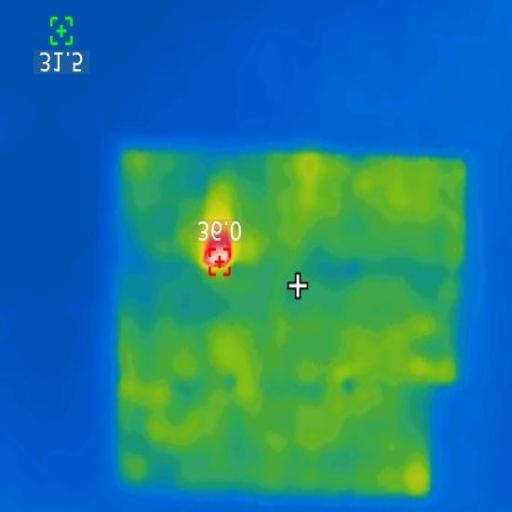hotspot: (197, 224, 241, 276)
